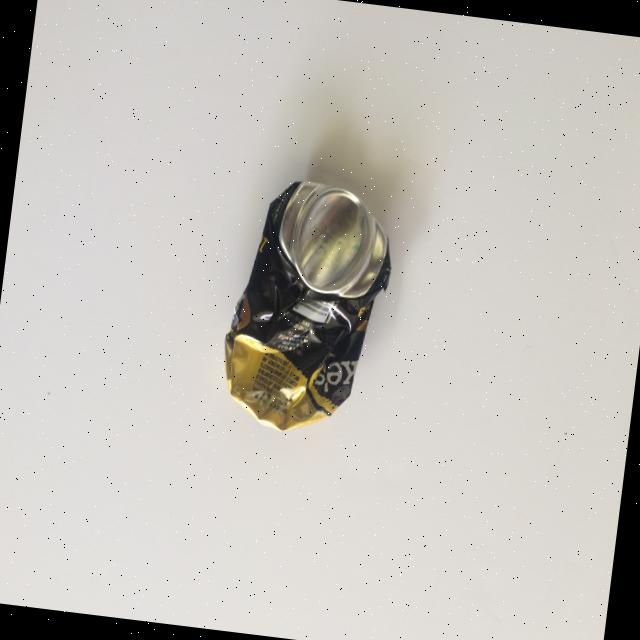metal: (214, 170, 400, 442)
